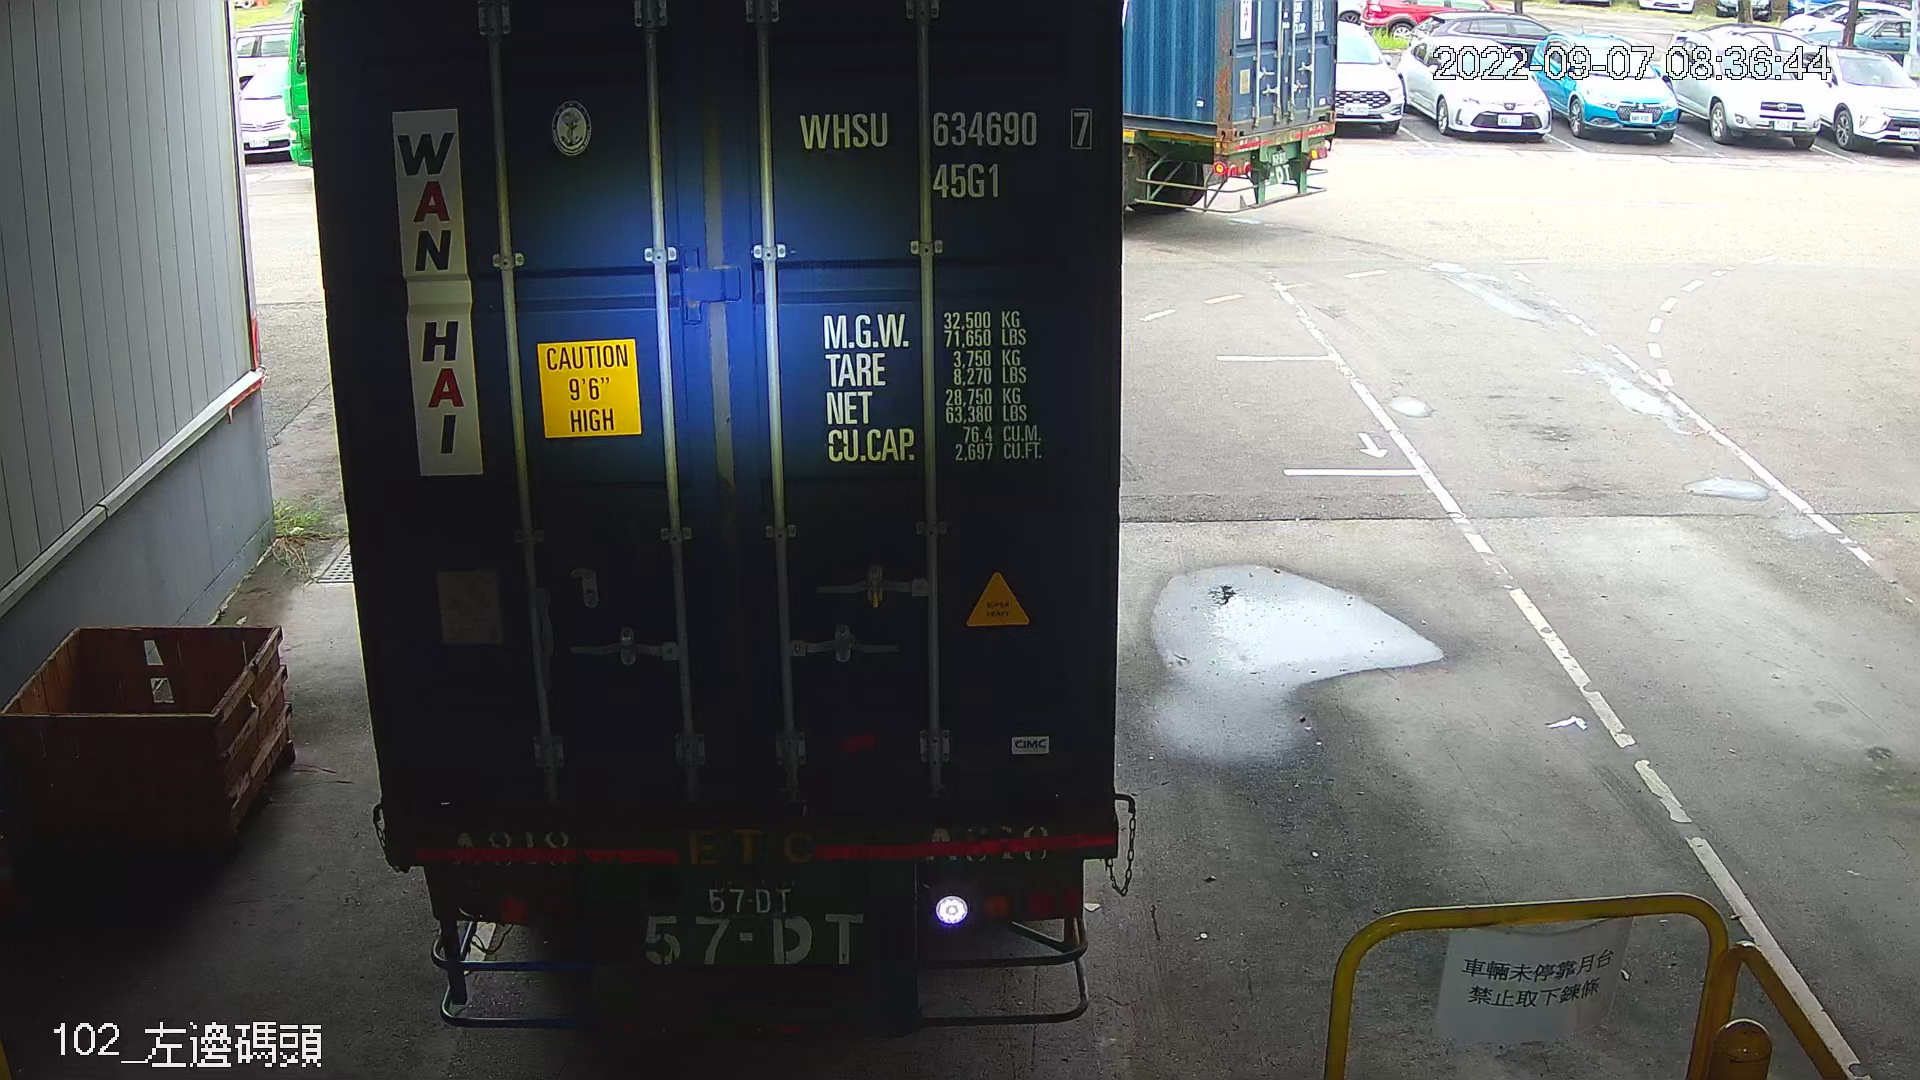container: (789, 98, 1102, 207)
